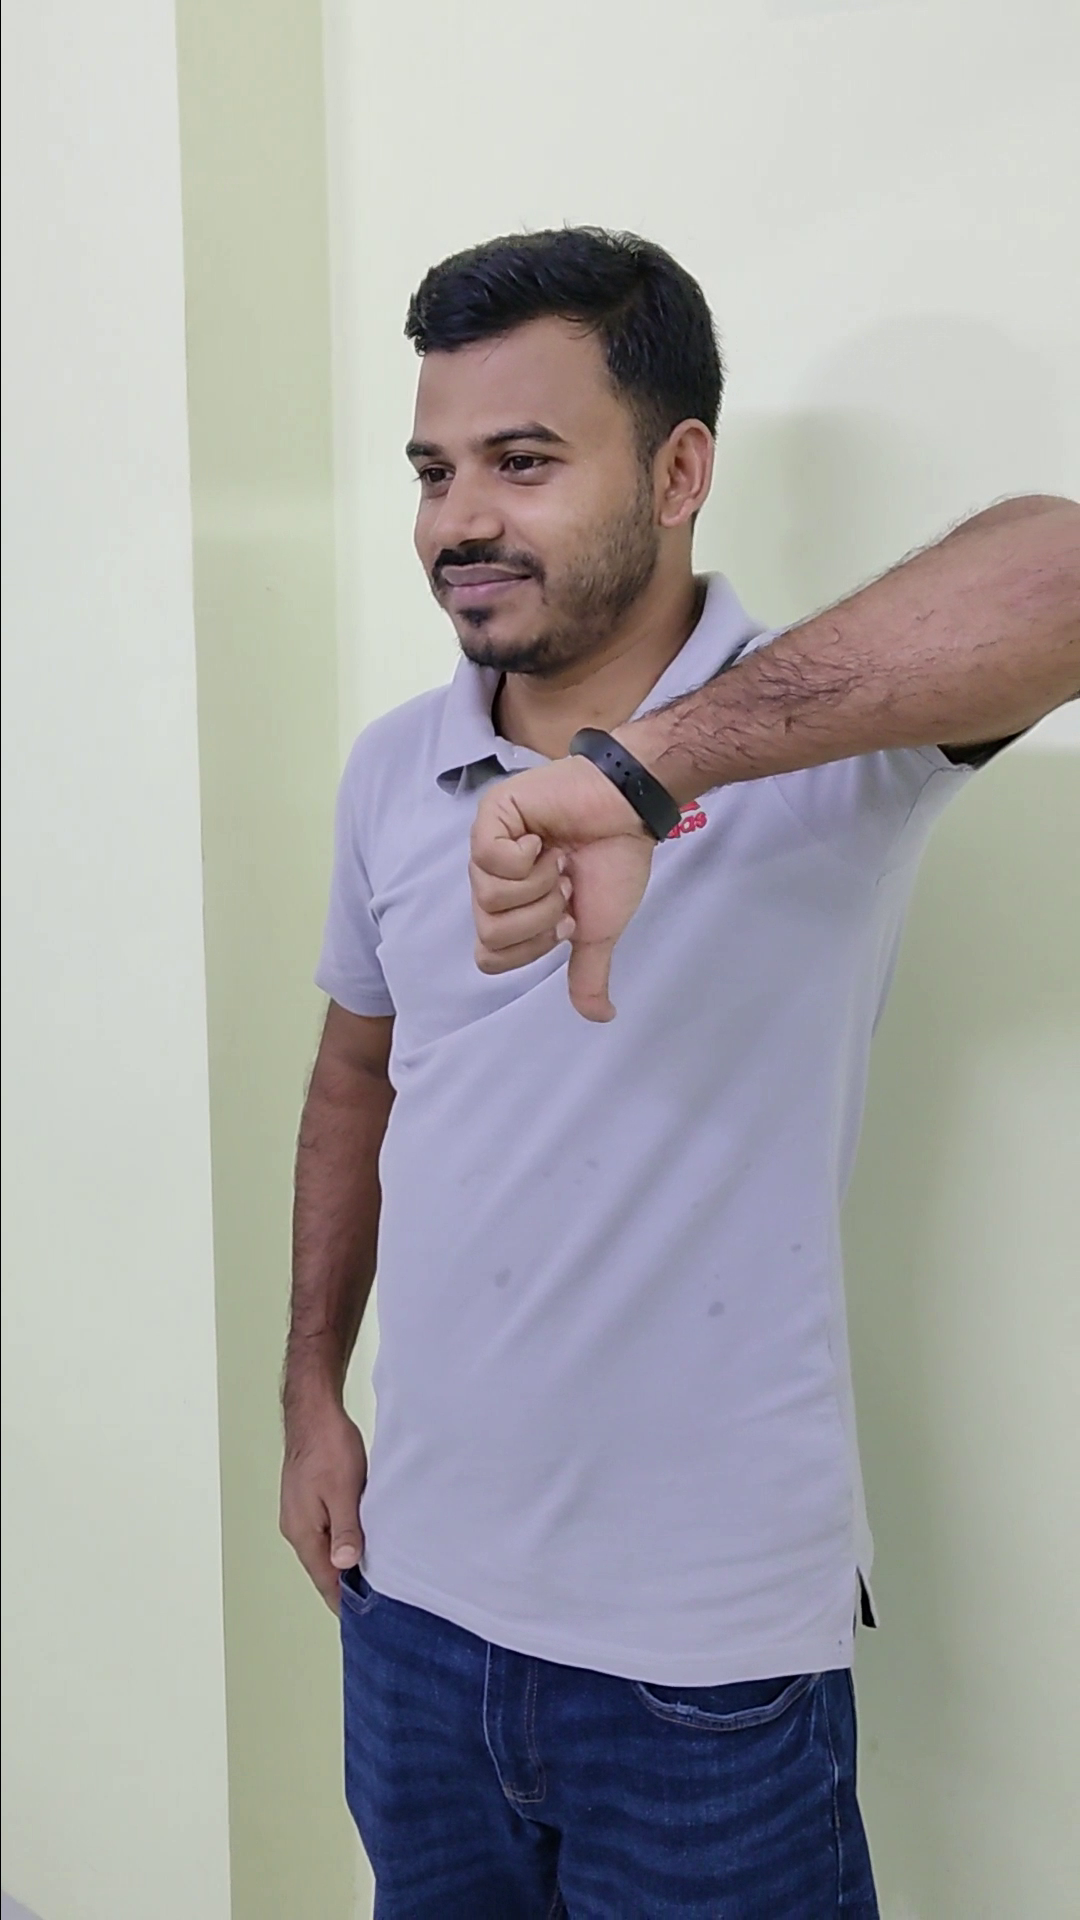Dislike: (442, 713, 673, 1039)
None: (251, 1348, 397, 1640)
